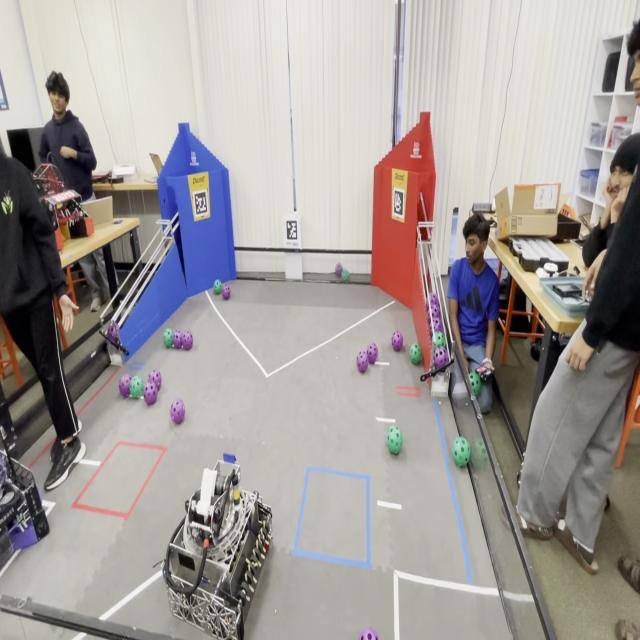artifact_green: (452, 437, 470, 467), (471, 438, 488, 469), (387, 425, 402, 455), (469, 371, 483, 397), (130, 376, 144, 399), (432, 331, 446, 349), (410, 344, 421, 365), (163, 328, 173, 348), (214, 280, 222, 295), (341, 269, 349, 282)
artifact_purple: (170, 400, 185, 423), (143, 382, 157, 405), (148, 369, 161, 391), (434, 348, 448, 368), (119, 375, 131, 398), (107, 321, 119, 343), (367, 343, 379, 365), (357, 352, 368, 373), (392, 331, 403, 351), (430, 317, 442, 335), (182, 331, 193, 350), (360, 628, 378, 639), (0, 458, 6, 486), (173, 330, 181, 348), (429, 292, 439, 306), (431, 306, 441, 319), (222, 285, 230, 300), (335, 263, 342, 277)
